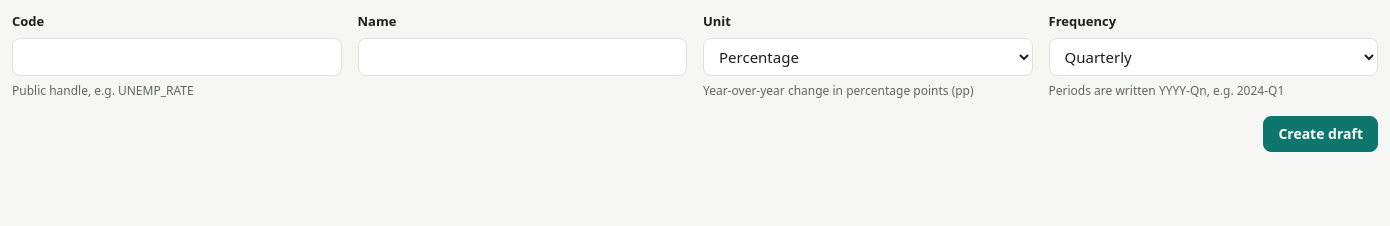
Test: IndicatorForm › sends every field and shows a server-side conflict
Step 1. Type "UNEMP_RATE" into the field labelled "Code" → coordinates (177, 56), box x1=12 y1=38 x2=342 y2=76
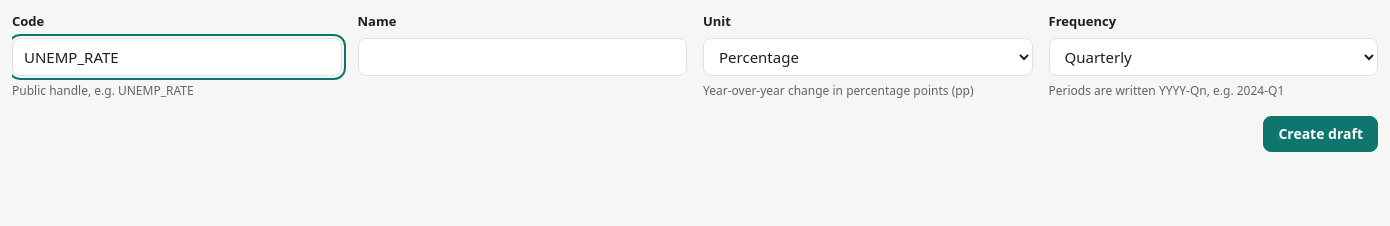
Step 2. Type "Unemployment rate" into the field labelled "Name" → coordinates (522, 56), box x1=358 y1=38 x2=687 y2=76
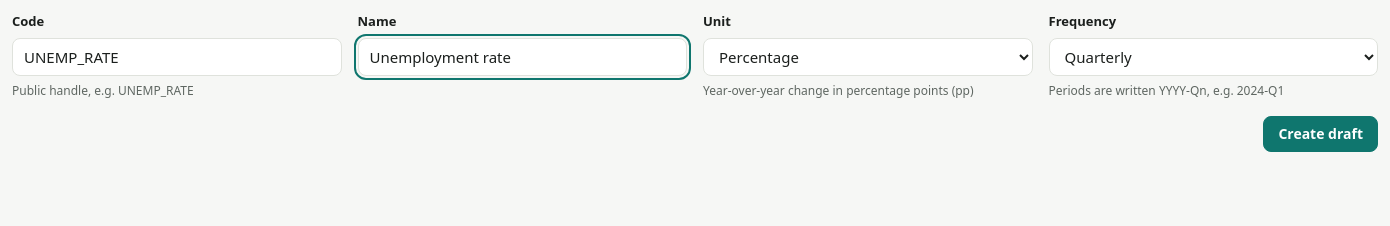
Step 3. Select "Index" in the dropdown labelled "Unit" → coordinates (868, 56), box x1=703 y1=38 x2=1032 y2=76
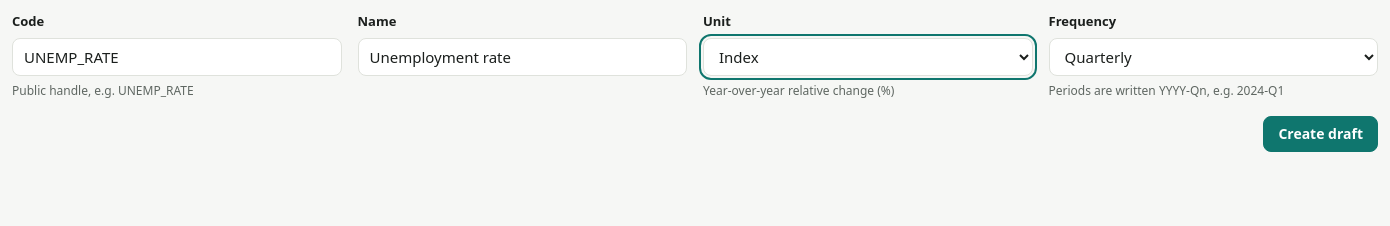
Step 4. Click the button "Create draft" → coordinates (1321, 134), box x1=1263 y1=116 x2=1378 y2=152
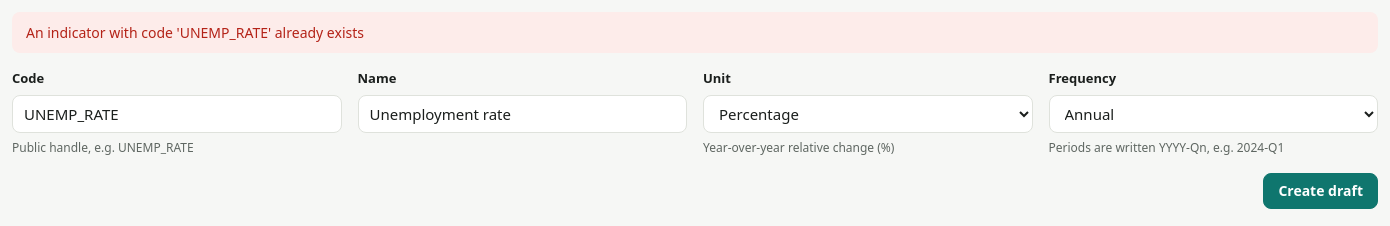
Now the message shows "already exists", box x1=26 y1=23 x2=364 y2=42
